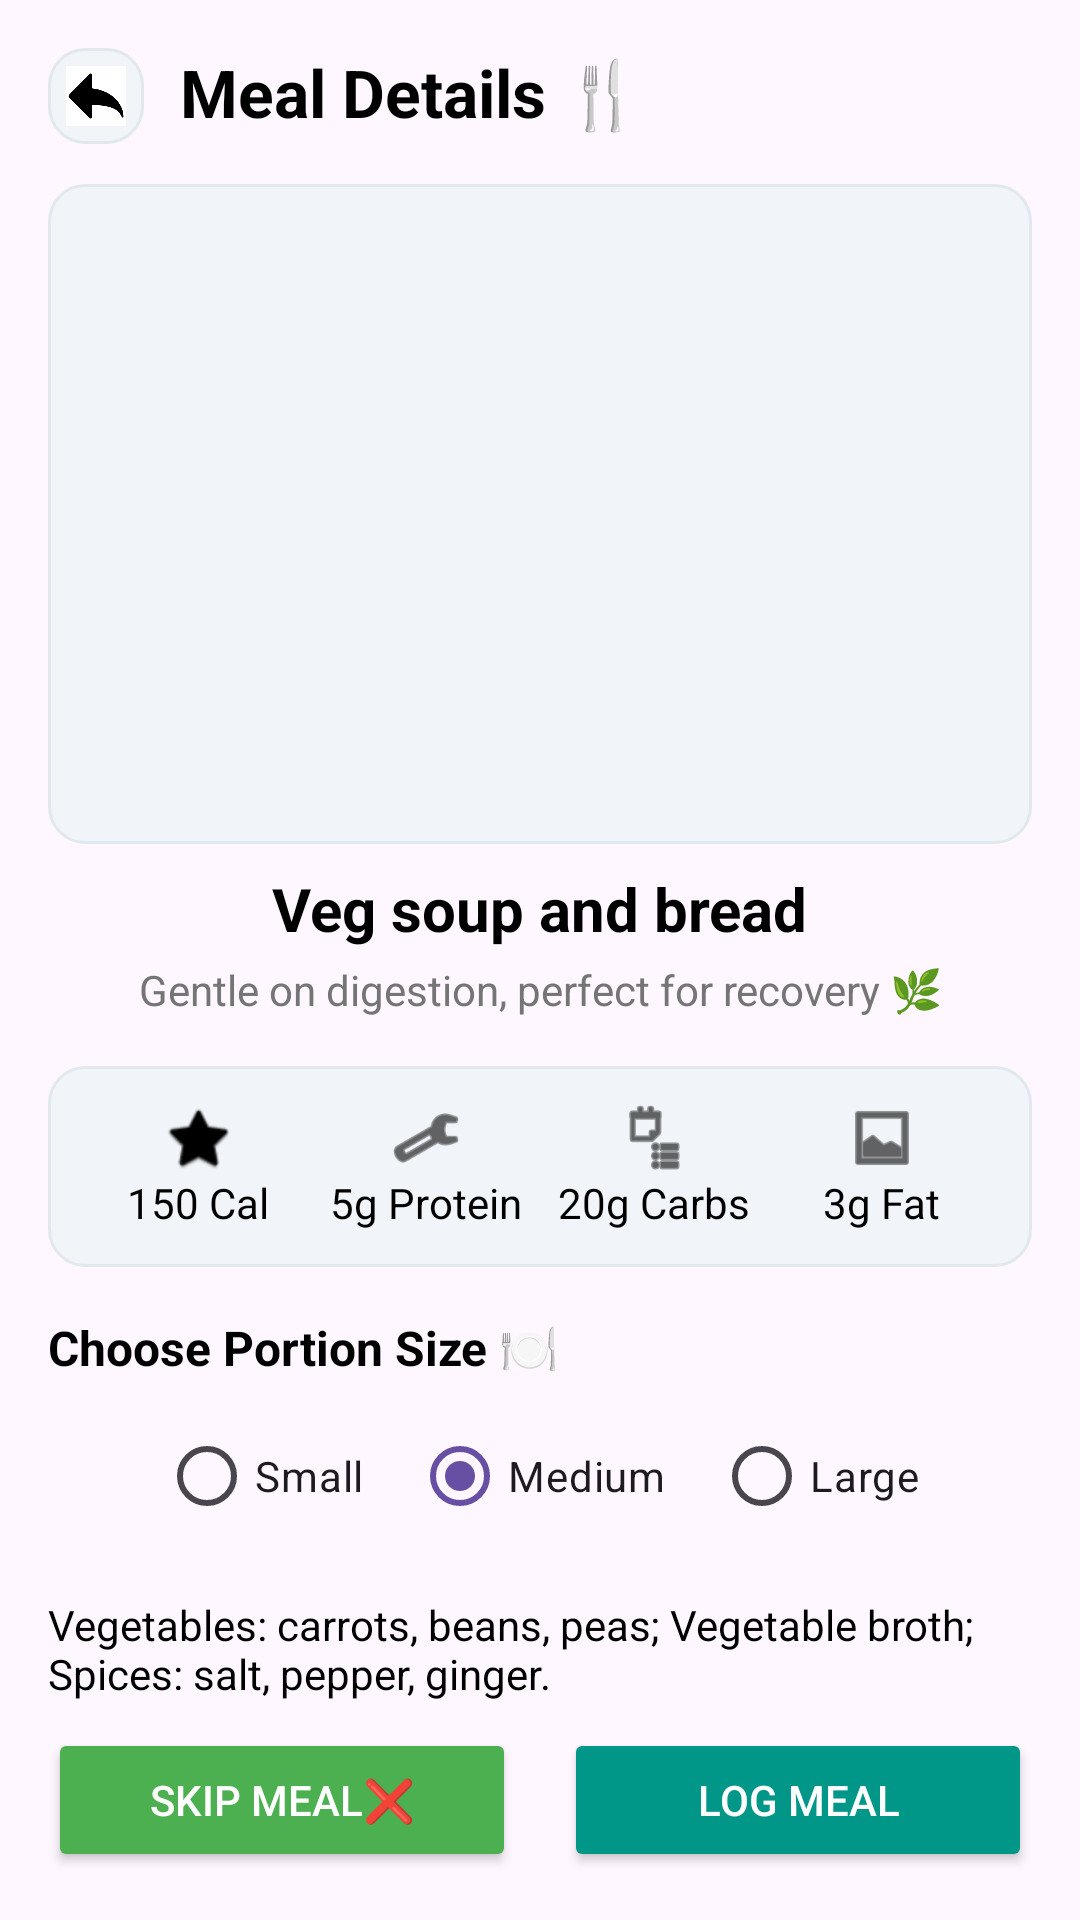

Named icons in this screenshot (1080x1920) and their bounding boxes, (x1, y1, x2, y2):
Back: (48, 48, 144, 144)
